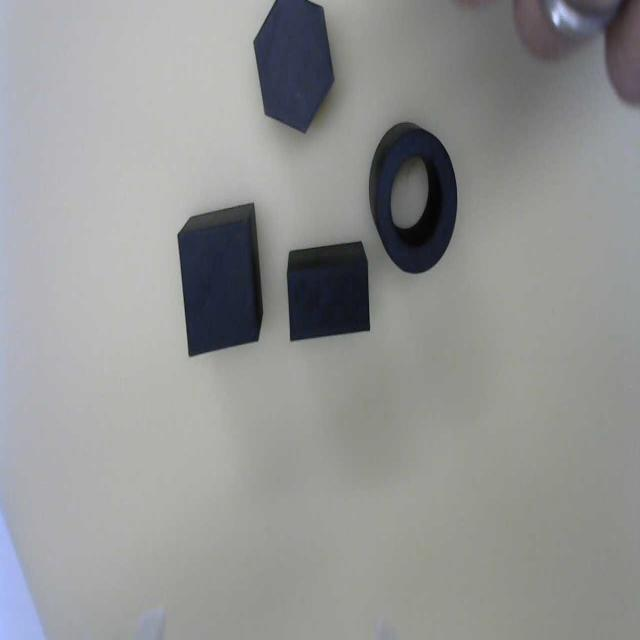hexagon: (244, 0, 341, 143)
rectangle: (287, 260, 370, 341)
ring: (374, 128, 461, 277)
square: (178, 220, 258, 357)
